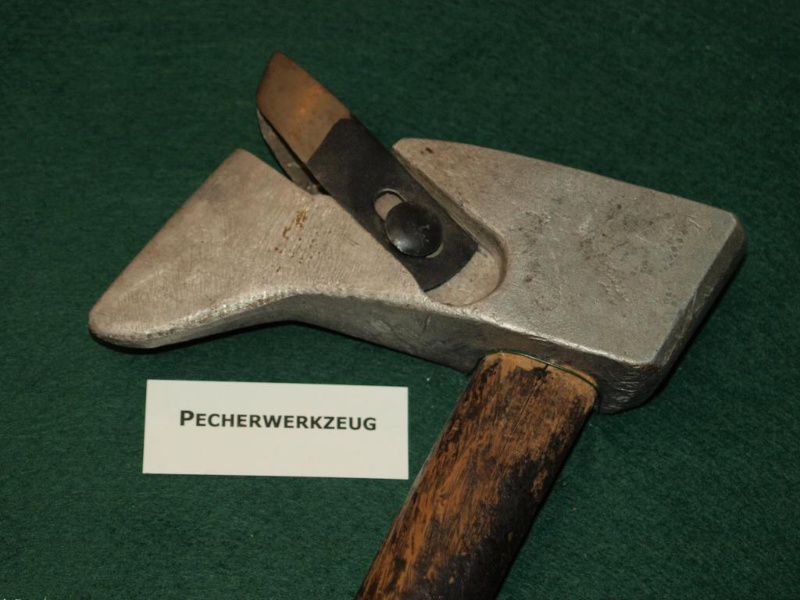axe: (74, 42, 749, 523)
